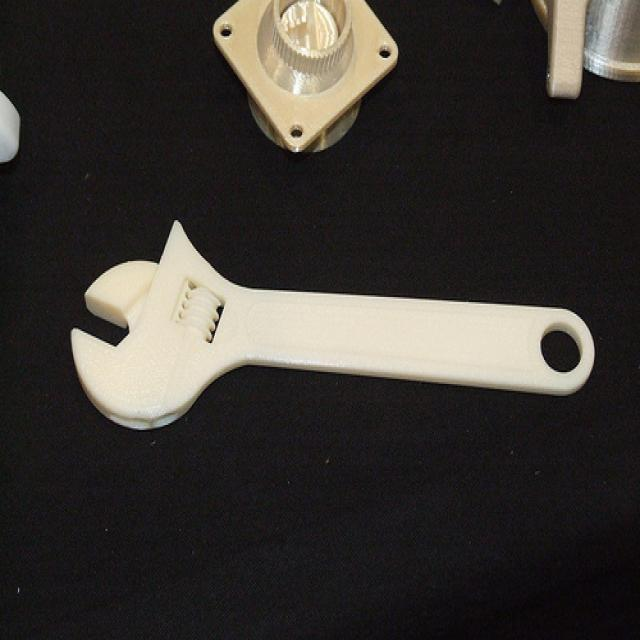wrench: (65, 216, 595, 438)
